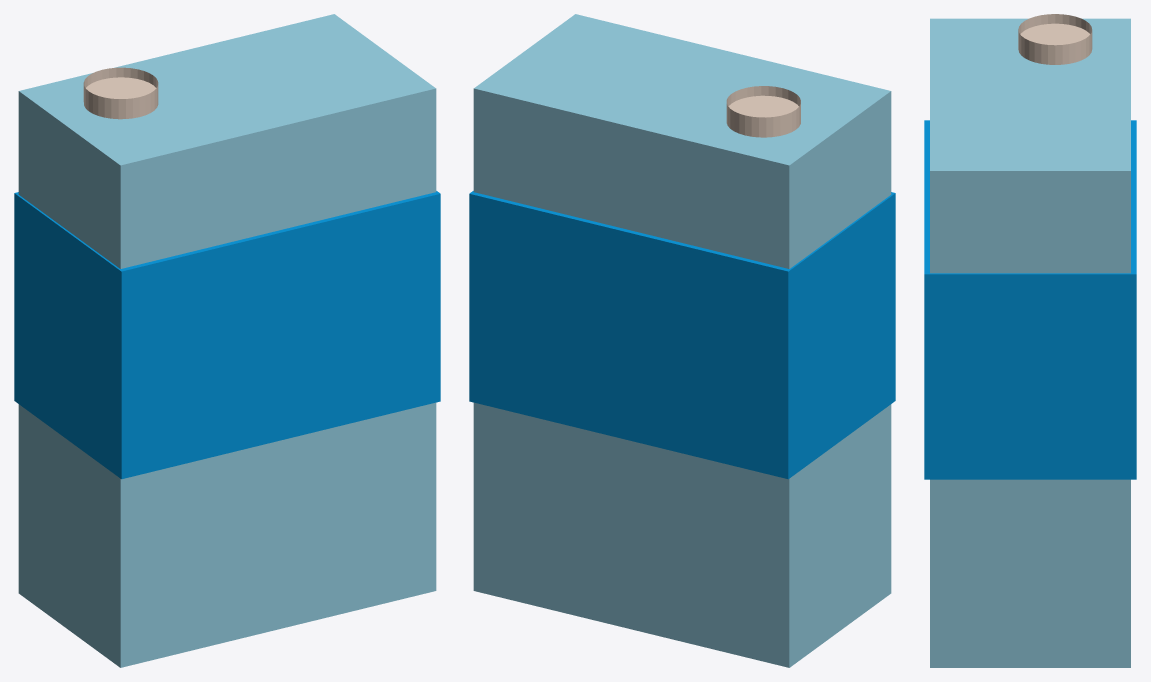
Rendered from milk.fbx.
3 renders of one model, left to right at view 1: azimuth 30°, elevation 25°; view 2: azimuth 150°, elevation 25°; view 3: azimuth 270°, elevation 25°, orthographic.
Visible parts, largest first — view 1: Cube, Cube.001, Cylinder; view 2: Cube, Cube.001, Cylinder; view 3: Cube, Cube.001, Cylinder.
Boxes of the visible parts, box(x1,y1,x2,y2) form: Cube: box(18, 14, 436, 667); Cube.001: box(14, 191, 440, 479); Cylinder: box(83, 67, 158, 119); Cube: box(473, 14, 891, 667); Cube.001: box(469, 191, 895, 479); Cylinder: box(726, 86, 800, 137); Cube: box(930, 18, 1130, 667); Cube.001: box(924, 120, 1136, 479); Cylinder: box(1018, 14, 1092, 64).
Bounding box in the file's own units: 202 × 316 × 118.
